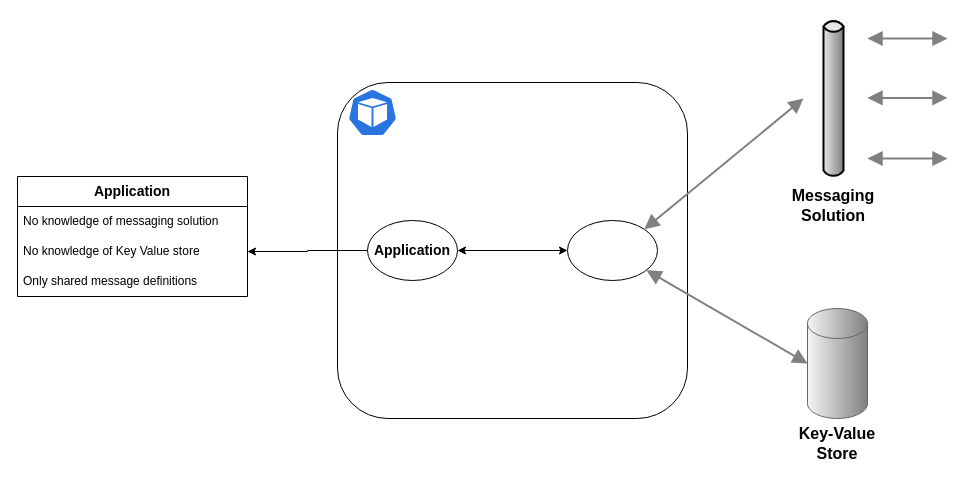
This 979x479 diagram has some shape labels left out. Each missing label, with the box of its shape:
Pod: (346, 88, 398, 136)
Sidecar: (566, 220, 658, 280)
